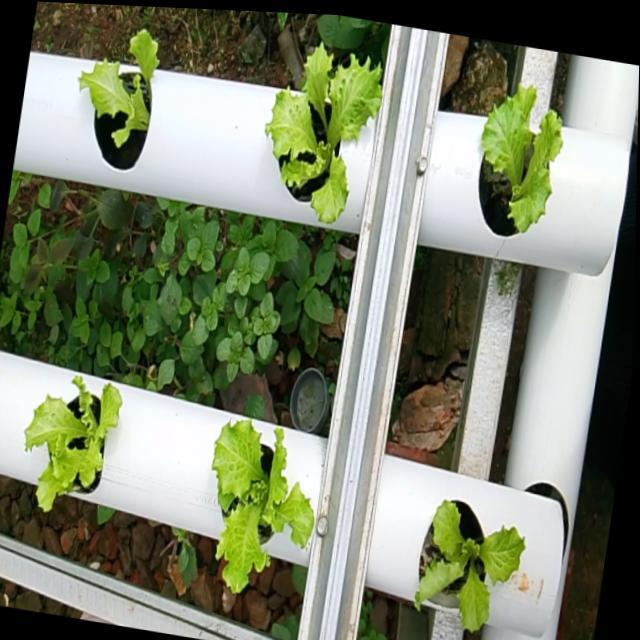Baby: (268, 39, 385, 221), (215, 417, 317, 590), (417, 496, 528, 629), (28, 375, 125, 511), (481, 83, 565, 234), (82, 31, 161, 172)
